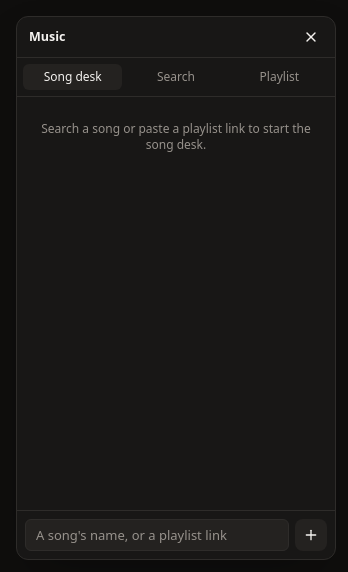
Test case: lets whoever runs the desk put it away once the music has run out
Click the tab "Search".
click(176, 77)  # box [126,64,226,90]
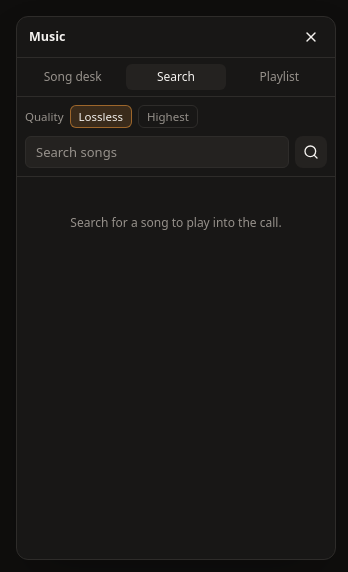
Type "sunny" into the field labelled "Search songs".
click(157, 152); type("sunny")  # box [25,136,289,168]
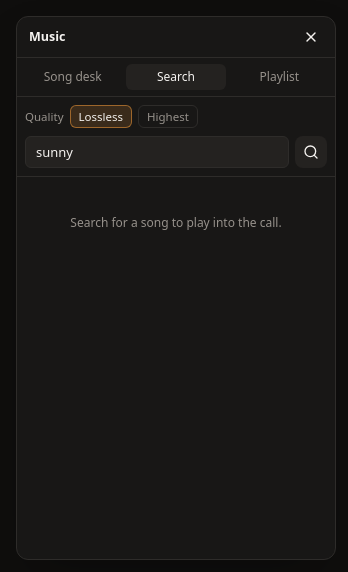
Click the button named "Search".
click(311, 152)  # box [295,136,327,168]
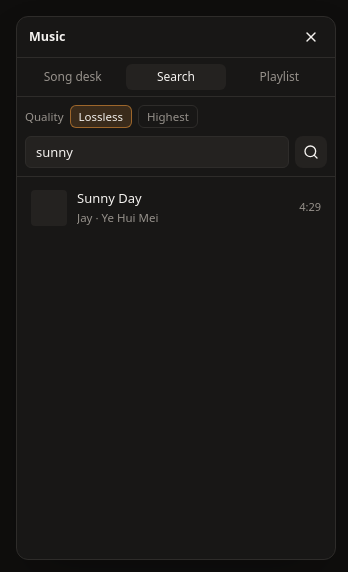
Click the button with aria-label "Add Sunny Day".
click(49, 208)  # box [23,183,329,232]
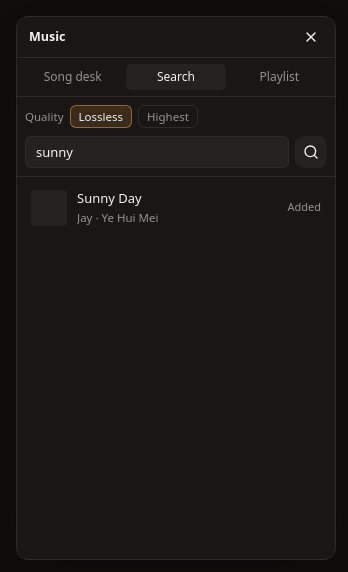
Click the tab "Song desk".
click(73, 77)  # box [23,64,122,90]
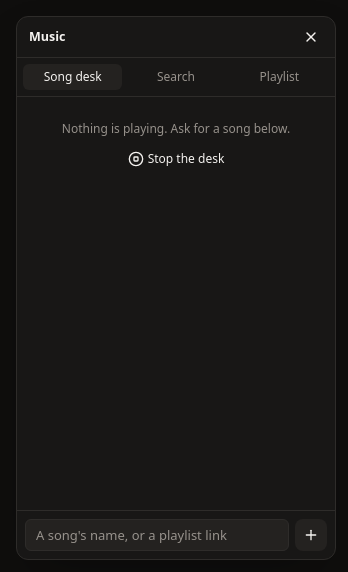
Click the button "Stop the desk".
click(176, 159)  # box [116,145,236,173]
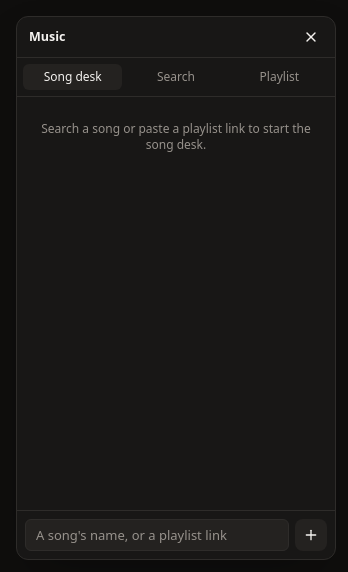
Check: the text "Search a song or paste a playlist link" is shown, box [41,120,311,153]
